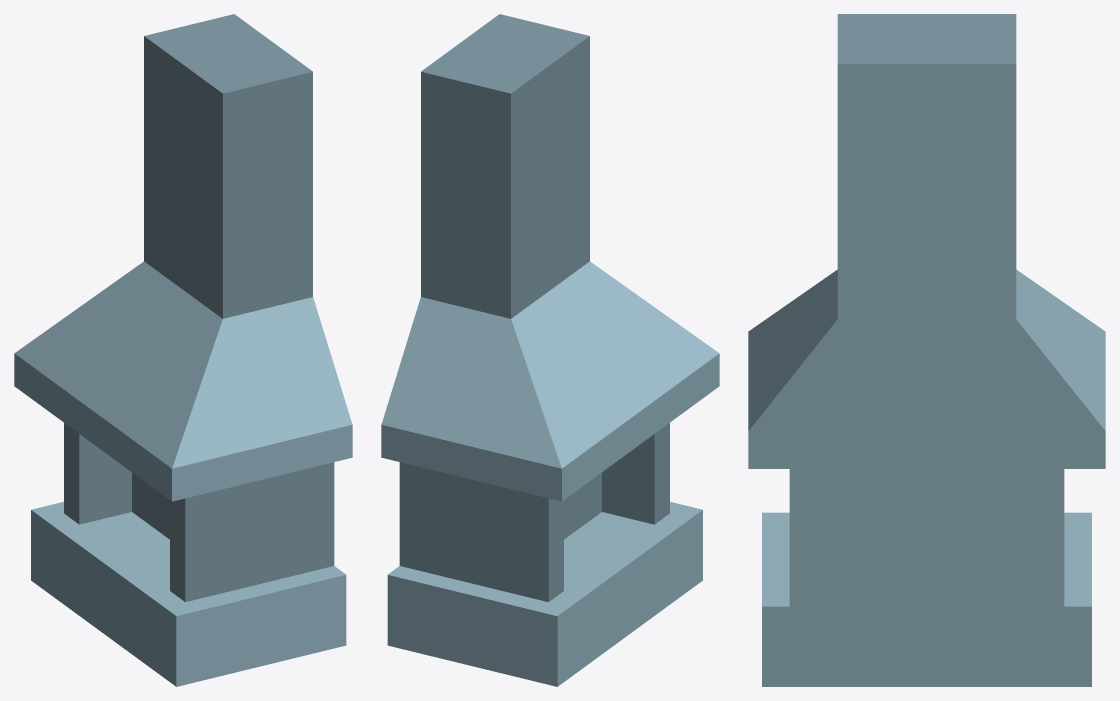
The model's file is chimneyBase.fbx.
The picture shows the model from 3 angles, left to right: view 1: azimuth 30°, elevation 25°; view 2: azimuth 150°, elevation 25°; view 3: azimuth 270°, elevation 25°; orthographic projection. The views are drawn at different scales.
Parts seen in each view (by area): view 1: chimneyBase; view 2: chimneyBase; view 3: chimneyBase.
Part boxes in pixels (bbox=[...]): chimneyBase: bbox=[14, 14, 352, 686]; chimneyBase: bbox=[381, 14, 719, 686]; chimneyBase: bbox=[748, 14, 1105, 686].
Size of the model in its own units: 3.44 by 10 by 5.2.
